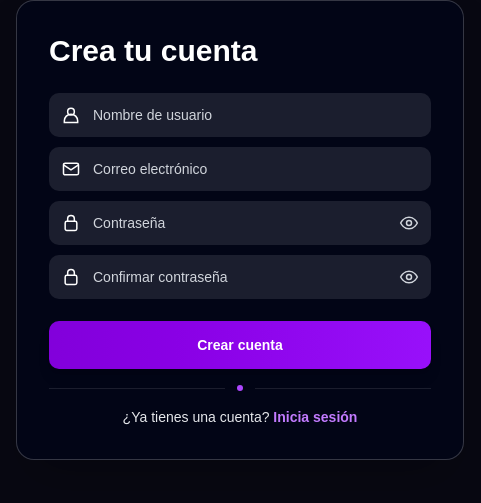
Scenario: RegisterForm › should reject passwords shorter than 8 characters
Step 1. Type "testuser" into the field labelled "Nombre de usuario" → (256, 115), box 93,93 -> 419,137
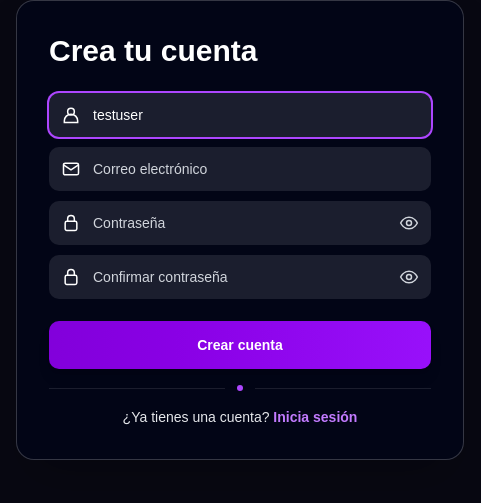
Step 2. Type "usuario@gmail.com" into the field labelled "Correo electrónico" → (256, 169), box 93,147 -> 419,191
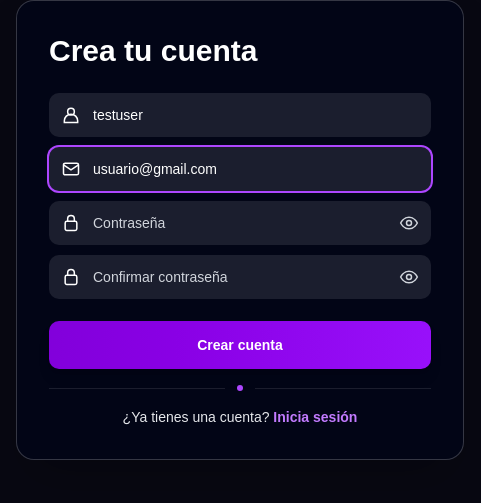
Step 3. Type "1234567" into the password field labelled "Contraseña" → (240, 223), box 93,201 -> 387,245
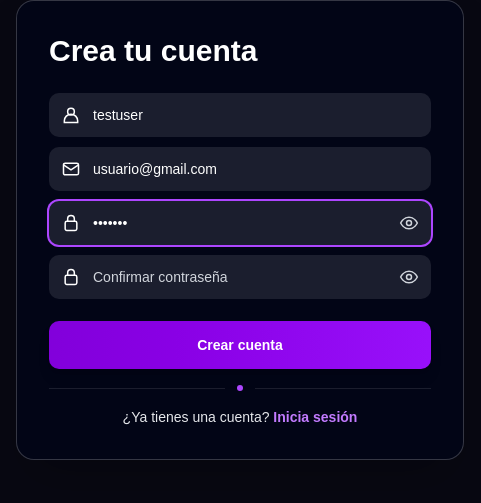
Step 4. Type "1234567" into the password field labelled "Confirmar contraseña" → (240, 277), box 93,255 -> 387,299
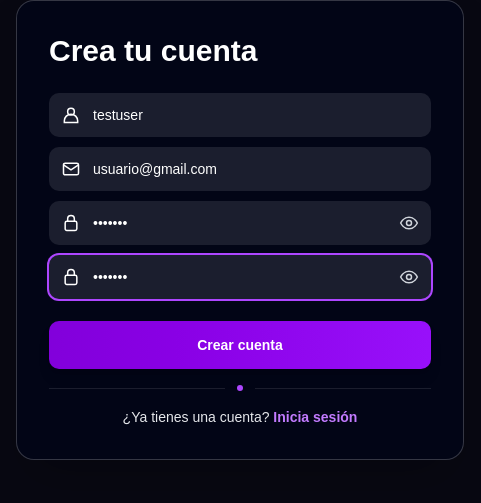
Step 5. Click the button "Crear cuenta" → click(240, 345), box 49,321 -> 431,369
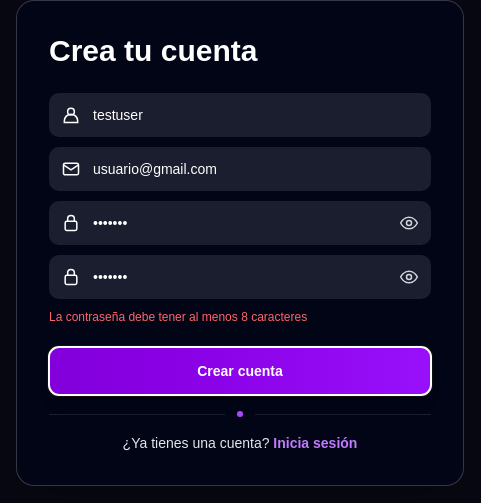
Expected: the message reads "La contraseña debe tener al menos 8 caracteres", 49,310 -> 307,324
